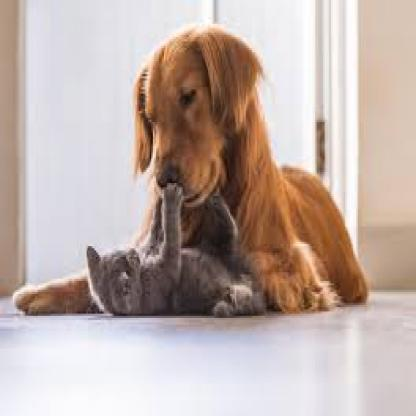dog: (123, 26, 275, 209)
